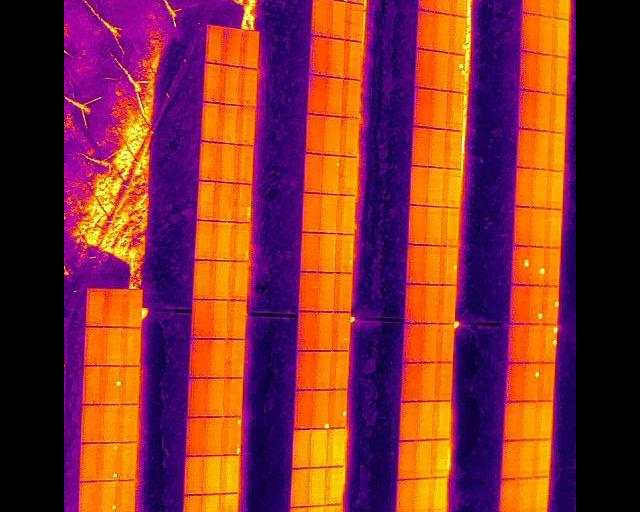Cell: (100, 364, 121, 403), (513, 244, 531, 284), (323, 155, 341, 194), (314, 388, 331, 429), (440, 245, 457, 284), (330, 389, 347, 427), (99, 478, 118, 512), (524, 363, 540, 401), (527, 285, 543, 323), (449, 16, 465, 53), (334, 311, 349, 350), (530, 246, 545, 285), (544, 285, 558, 323), (452, 0, 466, 16), (435, 0, 451, 13)
Cell-Multi: (100, 441, 119, 480), (337, 233, 354, 272), (541, 323, 557, 361), (226, 416, 242, 454), (449, 53, 464, 93), (239, 183, 251, 222)
No-Anomaly: (204, 454, 229, 494), (300, 231, 322, 272), (307, 74, 329, 113), (194, 297, 216, 336), (190, 376, 211, 416), (294, 388, 314, 430), (309, 36, 331, 74), (219, 141, 239, 182), (79, 441, 100, 480), (187, 417, 208, 456), (298, 270, 318, 310), (297, 310, 317, 350), (306, 112, 326, 152), (119, 402, 139, 442), (215, 260, 235, 300), (290, 466, 310, 506), (304, 153, 324, 192), (81, 403, 101, 442), (193, 337, 213, 376), (197, 221, 217, 260), (205, 63, 225, 102), (207, 415, 227, 454), (221, 103, 241, 142), (303, 191, 322, 232), (211, 375, 230, 416), (293, 427, 312, 468), (321, 193, 340, 233), (325, 465, 344, 505), (515, 166, 534, 206), (122, 325, 141, 365), (199, 181, 218, 221), (200, 141, 219, 181), (214, 300, 234, 338), (216, 221, 236, 259), (219, 181, 238, 221), (318, 270, 336, 312), (296, 350, 315, 389), (400, 362, 419, 401), (100, 403, 119, 442), (197, 260, 216, 299), (122, 289, 142, 326), (325, 113, 343, 154), (103, 325, 121, 366), (516, 129, 535, 167), (119, 441, 138, 479), (187, 456, 206, 494), (204, 102, 223, 140), (311, 427, 329, 467), (320, 231, 338, 271), (404, 283, 422, 323), (412, 86, 430, 126), (428, 127, 446, 167), (534, 400, 552, 440), (545, 207, 563, 247), (213, 338, 232, 375), (241, 29, 260, 66), (335, 272, 353, 311), (85, 325, 103, 364), (406, 244, 424, 283), (409, 166, 427, 205), (519, 89, 537, 128), (521, 12, 539, 51), (532, 438, 550, 477), (121, 363, 139, 402), (327, 75, 344, 116), (340, 153, 357, 194), (418, 360, 435, 401), (509, 322, 526, 363), (514, 205, 531, 246), (312, 0, 331, 36), (347, 3, 365, 41), (407, 205, 425, 243), (510, 285, 528, 323), (331, 0, 348, 40), (426, 166, 443, 206), (517, 438, 534, 478), (423, 243, 440, 283), (537, 51, 554, 91), (225, 65, 242, 105), (241, 65, 258, 105), (78, 480, 99, 512), (343, 79, 361, 116), (398, 440, 416, 477), (104, 289, 122, 326), (207, 25, 225, 62), (315, 350, 332, 389), (82, 364, 99, 403), (346, 40, 363, 79), (399, 401, 416, 440), (422, 283, 439, 322), (425, 205, 442, 244), (433, 11, 450, 50), (433, 400, 450, 439), (544, 246, 561, 285), (310, 465, 326, 506), (318, 309, 334, 350), (328, 37, 345, 75), (416, 10, 433, 48), (404, 323, 421, 361), (507, 362, 524, 400), (521, 52, 538, 90), (118, 478, 137, 512), (412, 125, 428, 165), (416, 47, 432, 87), (333, 349, 349, 389), (430, 88, 446, 128), (432, 50, 448, 90), (444, 128, 460, 168), (328, 428, 345, 465), (87, 289, 104, 326), (342, 116, 358, 155), (431, 438, 447, 477), (435, 361, 451, 400), (437, 323, 453, 362), (442, 206, 458, 245), (520, 400, 536, 439), (547, 169, 563, 208), (241, 106, 257, 145), (413, 476, 430, 512), (428, 476, 445, 512), (500, 476, 517, 512), (225, 28, 242, 64), (417, 400, 433, 438), (421, 323, 437, 361), (443, 168, 459, 206), (539, 15, 555, 53), (551, 56, 567, 94), (549, 93, 565, 131), (547, 131, 563, 169), (438, 283, 453, 323), (504, 400, 519, 439), (502, 439, 517, 478), (527, 324, 542, 363), (534, 92, 549, 131), (228, 377, 243, 416), (239, 144, 254, 183), (397, 478, 414, 512), (532, 476, 548, 512), (415, 439, 430, 477), (447, 91, 462, 129), (340, 193, 354, 233), (535, 129, 549, 169), (531, 208, 545, 247), (554, 17, 568, 56), (532, 168, 546, 206), (234, 261, 248, 299), (234, 299, 248, 337), (515, 479, 531, 512), (540, 362, 554, 399), (236, 224, 250, 261), (228, 454, 241, 493), (233, 338, 246, 375), (203, 492, 224, 512), (184, 493, 203, 512), (224, 492, 240, 512), (555, 0, 569, 17), (522, 0, 540, 12), (540, 0, 554, 15), (418, 0, 436, 10), (308, 502, 325, 512), (324, 503, 342, 512)
